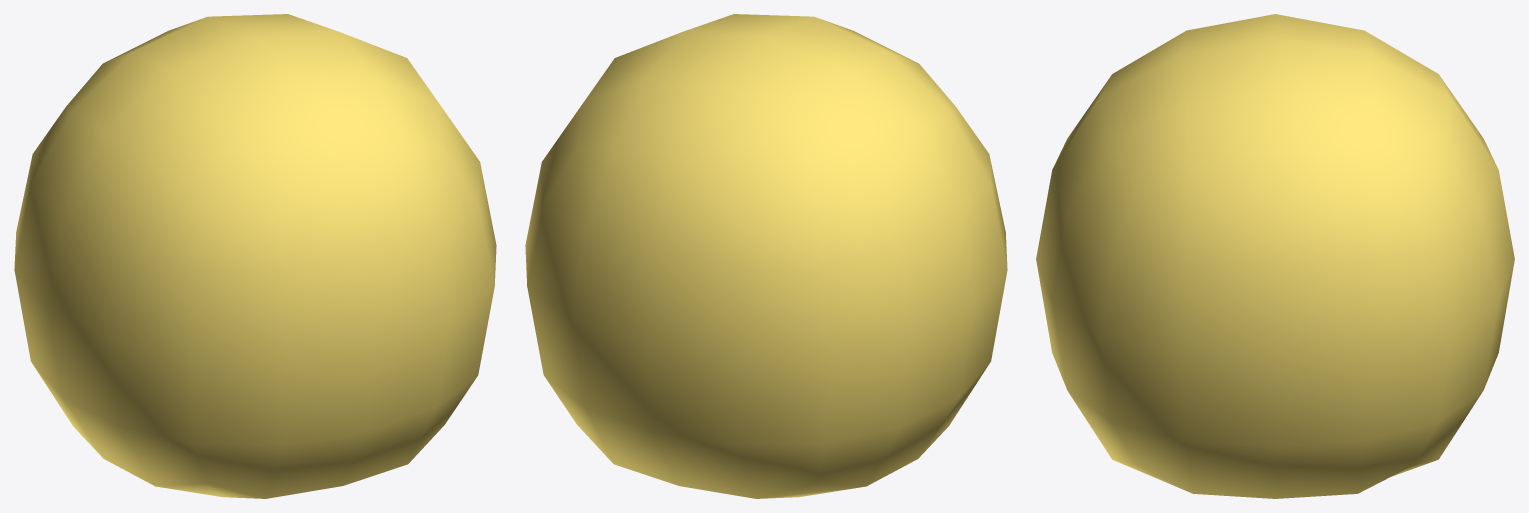
The model's file is Lamp_9.fbx.
3 views of the same model, side by side, from view 1: azimuth 30°, elevation 25°; view 2: azimuth 150°, elevation 25°; view 3: azimuth 270°, elevation 25° (orthographic).
Parts seen in each view (by area): view 1: Lamp_9; view 2: Lamp_9; view 3: Lamp_9.
Part boxes in pixels (bbox=[...]): Lamp_9: bbox=[14, 14, 496, 498]; Lamp_9: bbox=[525, 14, 1007, 498]; Lamp_9: bbox=[1036, 14, 1514, 498].
Size of the model in its own units: 41.76 by 41.76 by 39.37.
